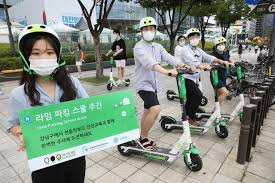kick_wheel: (183, 152, 202, 171), (160, 117, 174, 132), (215, 124, 228, 139), (167, 91, 175, 102), (106, 82, 113, 90)
